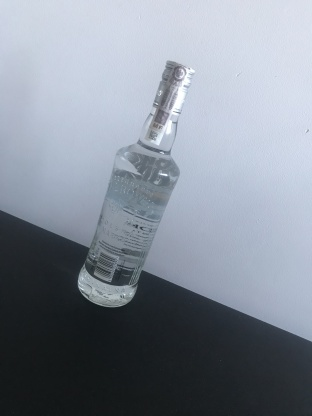nakretka: (150, 58, 196, 119)
